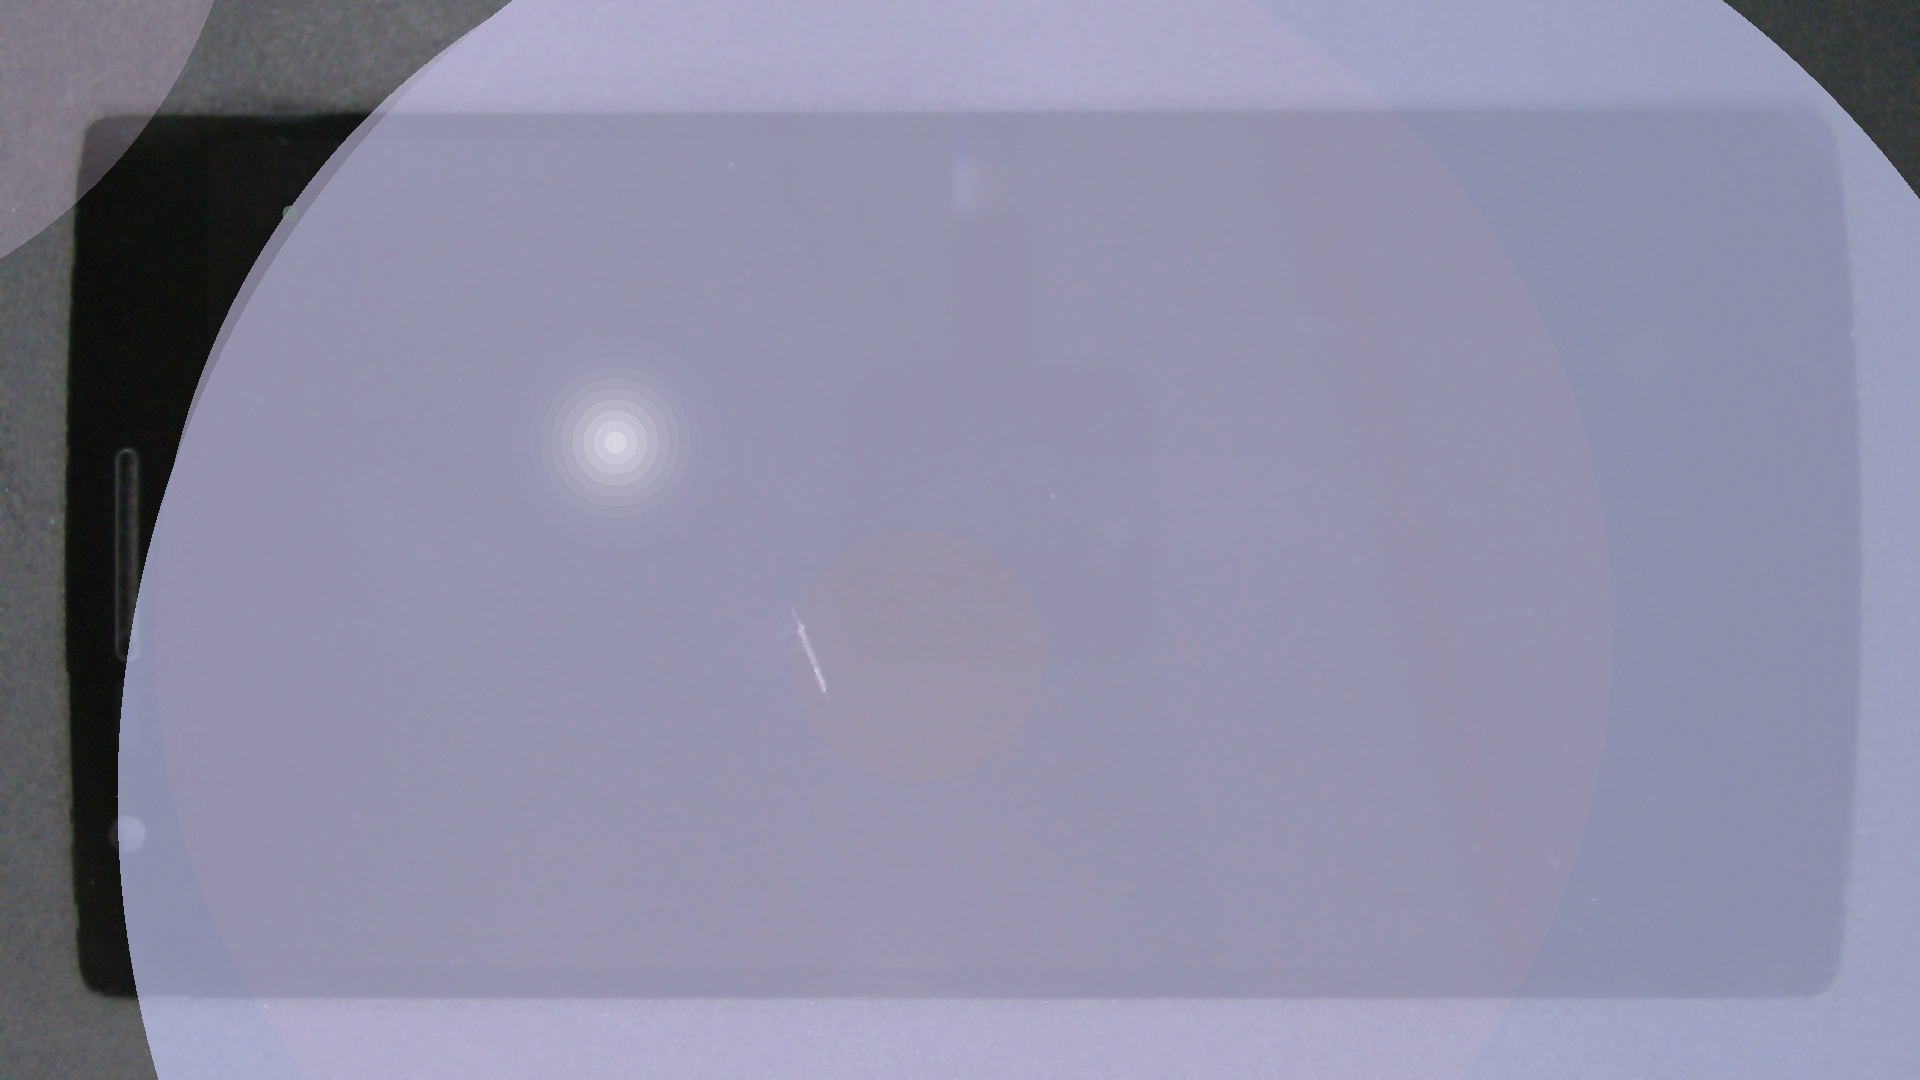oil: (397, 302, 1187, 911)
